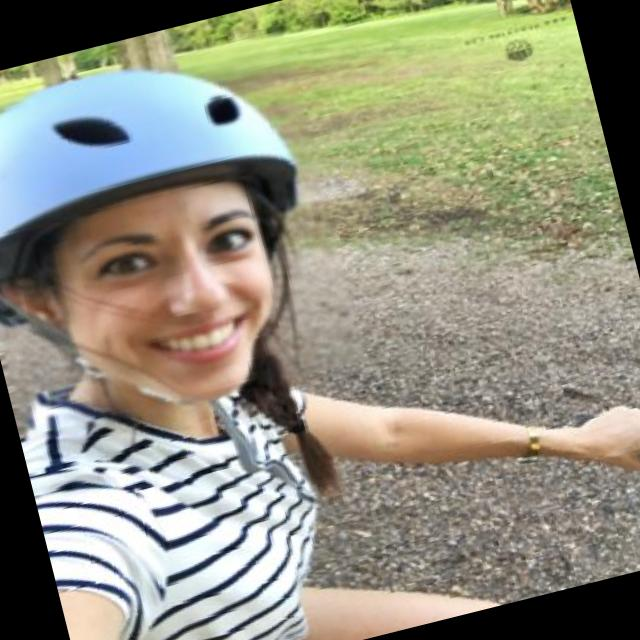With Helmet: (0, 29, 363, 446)
